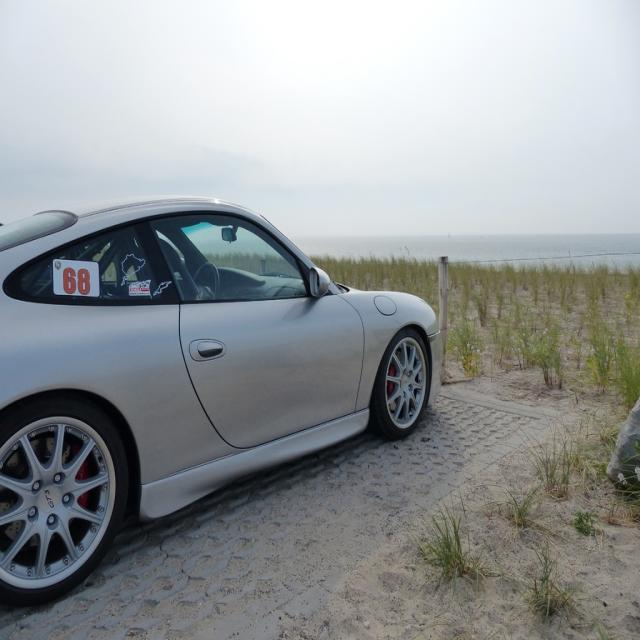car: (8, 200, 432, 586)
